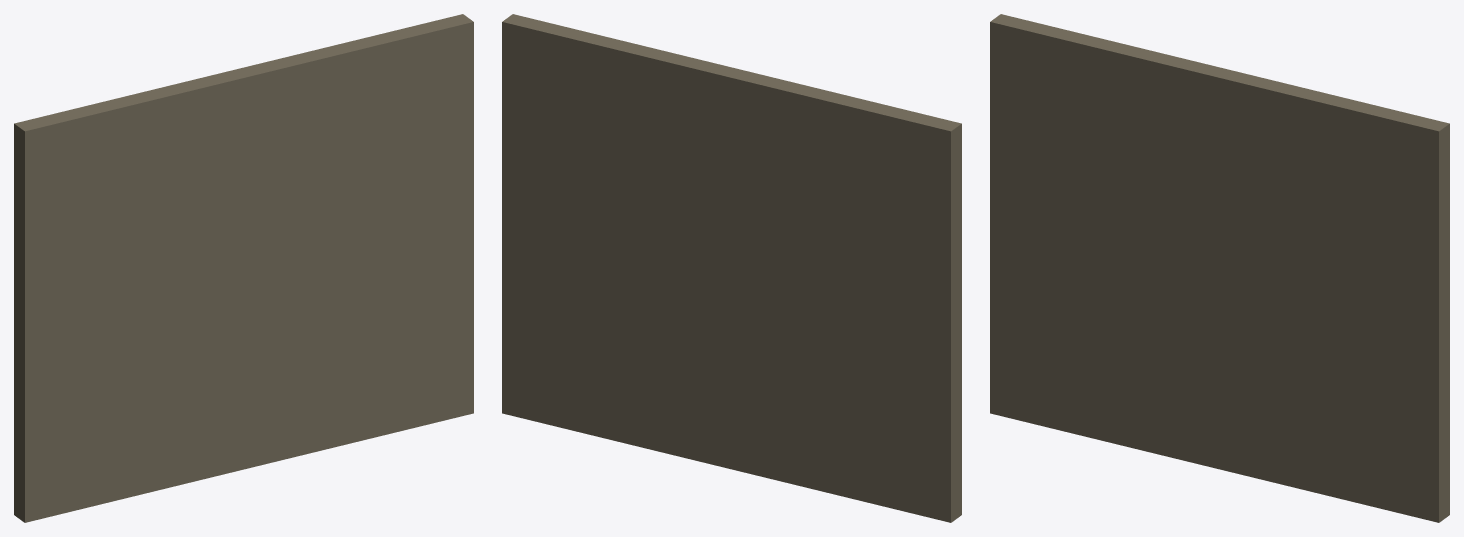
File: SM_wall_divided.fbx
3 renders of one model, left to right at view 1: azimuth 30°, elevation 25°; view 2: azimuth 150°, elevation 25°; view 3: azimuth 330°, elevation 25°, orthographic.
Visible parts, largest first — view 1: wall_divided; view 2: wall_divided; view 3: wall_divided.
Part boxes in pixels (left/top/right/bottom): wall_divided: left=14, top=14, right=473, bottom=522; wall_divided: left=502, top=14, right=961, bottom=522; wall_divided: left=990, top=14, right=1449, bottom=522.
Size of the model in its own units: 300 by 250 by 12.45.
